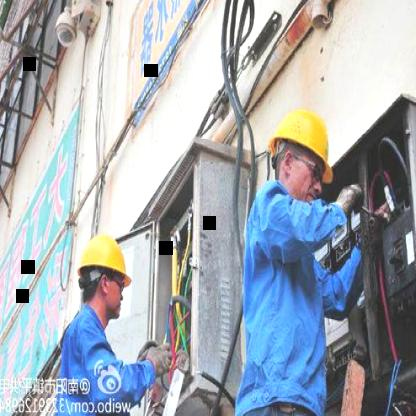helmet: (266, 99, 336, 210), (71, 227, 131, 323)
